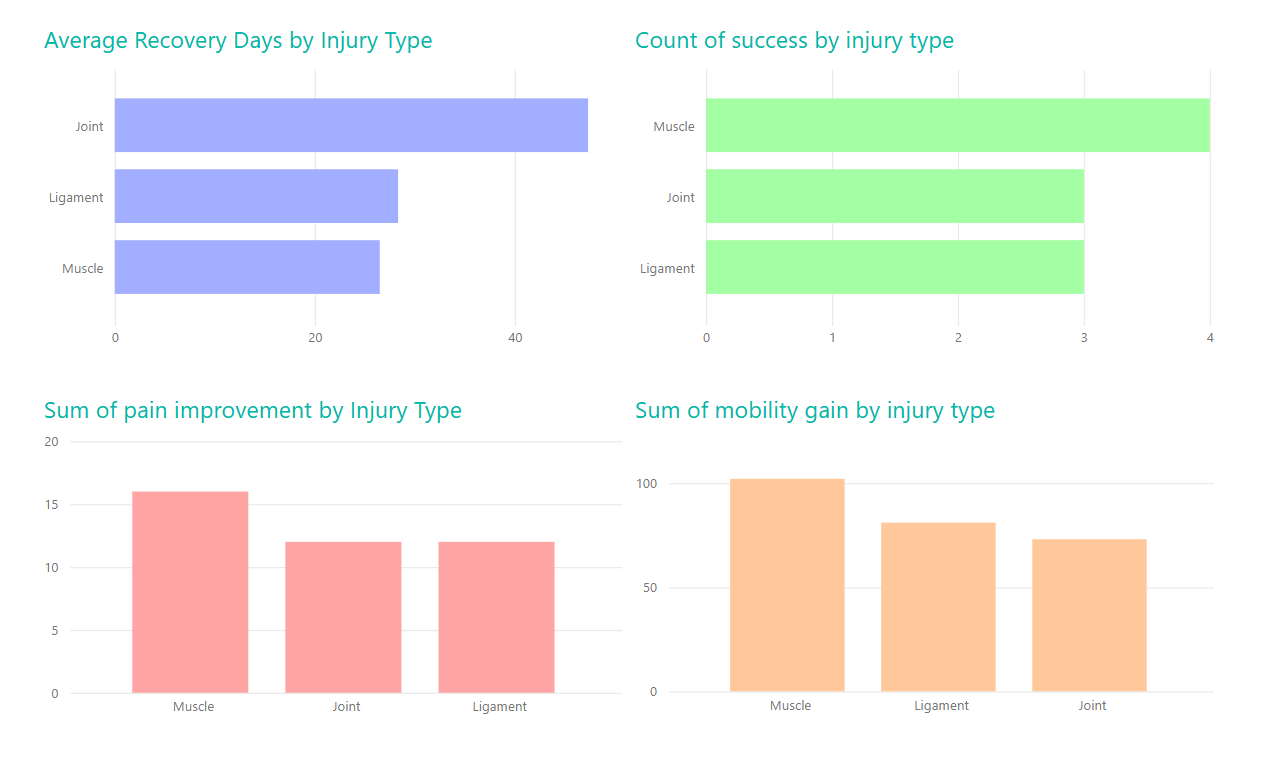

This screenshot's page, from the dashboard's own definition file:
{"tool":"powerbi","page":{"name":"Injury Type Analysis","canvas":[1280,720],"ordinal":1},"visuals":[{"type":"barChart","title":"Average Recovery Days by Injury Type","fields":{"Category":["clinical_data_cleaned csv.injury_type"],"Y":["clinical_data_cleaned csv.Average Recovery Days"]},"box":[166.5,63.9,472.9,269],"z":0},{"type":"barChart","title":"Count of success by injury type","fields":{"Category":["clinical_data_cleaned csv.injury_type"],"Y":["CountNonNull(clinical_data_cleaned csv.success)"]},"box":[639.4,63.9,472.9,269],"z":1},{"type":"columnChart","title":"Sum of pain improvement by Injury Type","fields":{"Category":["clinical_data_cleaned csv.injury_type"],"Y":["Sum(clinical_data_cleaned csv.pain_improvement)"]},"box":[166.5,333,472.9,267.8],"z":2},{"type":"columnChart","title":"Sum of mobility gain by injury type","fields":{"Category":["clinical_data_cleaned csv.injury_type"],"Y":["Sum(clinical_data_cleaned csv.mobility_gain)"]},"box":[639.4,359.5,472.9,267.8],"z":3}]}

Visuals, with their boxes on the page's 1280x720 design canvas (x1, y1, x2, y2). These are canvas units, not pixel positions in the 1268x772 screenshot, which may show the page scaled, cropped or inside an application window:
"Average Recovery Days by Injury Type" barChart: (x1=166, y1=64, x2=639, y2=333)
"Count of success by injury type" barChart: (x1=639, y1=64, x2=1112, y2=333)
"Sum of pain improvement by Injury Type" columnChart: (x1=166, y1=333, x2=639, y2=601)
"Sum of mobility gain by injury type" columnChart: (x1=639, y1=360, x2=1112, y2=627)
